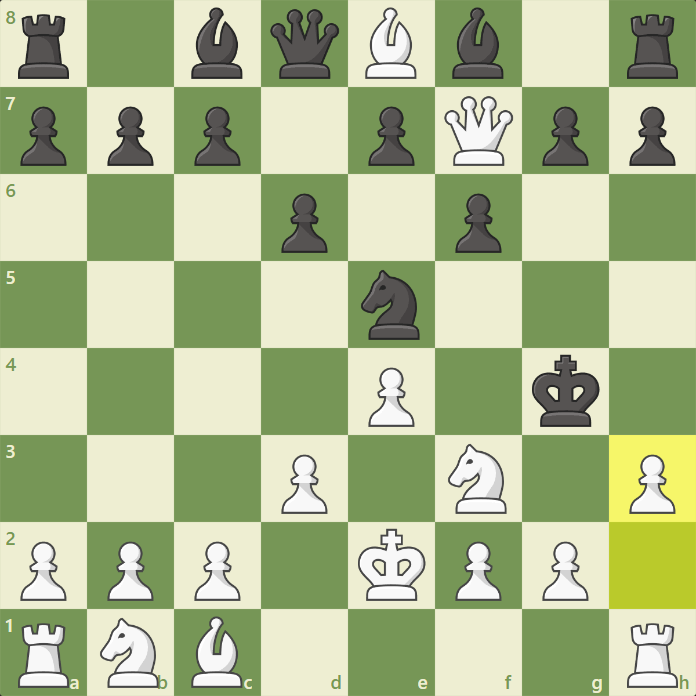B: (189, 613, 246, 691), (363, 5, 419, 82)
K: (356, 526, 428, 605)
N: (445, 441, 512, 517), (98, 616, 162, 691)
P: (541, 539, 591, 605), (453, 539, 503, 605), (278, 452, 328, 518), (365, 366, 415, 432), (193, 538, 243, 604), (105, 537, 155, 603), (18, 537, 68, 603), (629, 451, 677, 518)
Q: (441, 93, 516, 169)
R: (14, 619, 73, 691), (624, 620, 680, 691)
b: (185, 3, 245, 82), (450, 5, 508, 82)
k: (529, 353, 603, 430)
n: (358, 268, 423, 343)
p: (454, 191, 504, 257), (540, 103, 590, 169), (626, 103, 676, 169), (364, 102, 414, 168), (279, 189, 329, 255), (190, 103, 240, 169), (104, 103, 154, 169), (16, 103, 66, 169)
q: (267, 7, 343, 82)
r: (12, 11, 75, 82), (622, 11, 684, 82)
